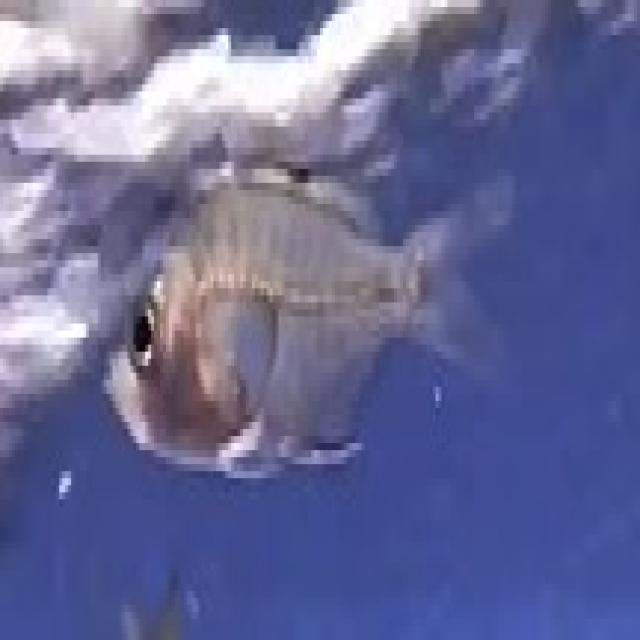Glass-Perchlet: (76, 59, 528, 552)
